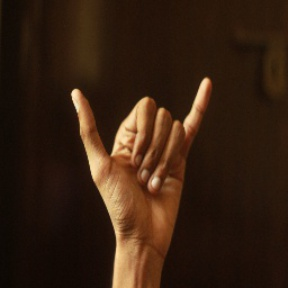J: (68, 78, 215, 239)
